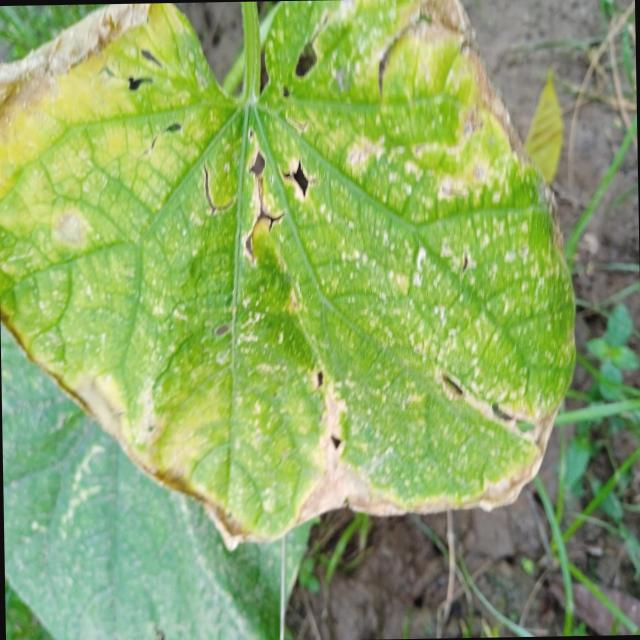cucumber_gummy: (0, 0, 582, 566)
